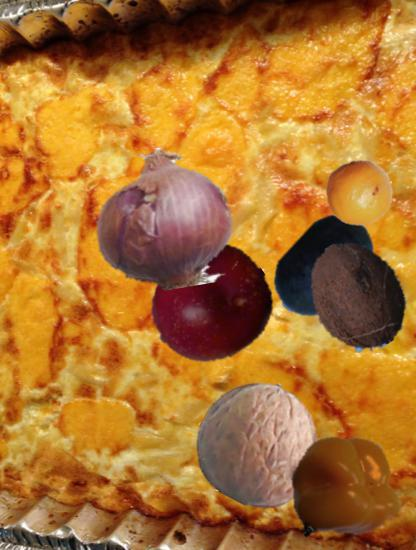Blueberry: (269, 211, 383, 325)
Cocos: (300, 239, 415, 354)
Lemon: (326, 159, 394, 227)
Nectarine: (149, 242, 272, 365)
Onion: (92, 148, 235, 291)
Pepper: (284, 432, 401, 549)
Walnut: (197, 381, 322, 506)
